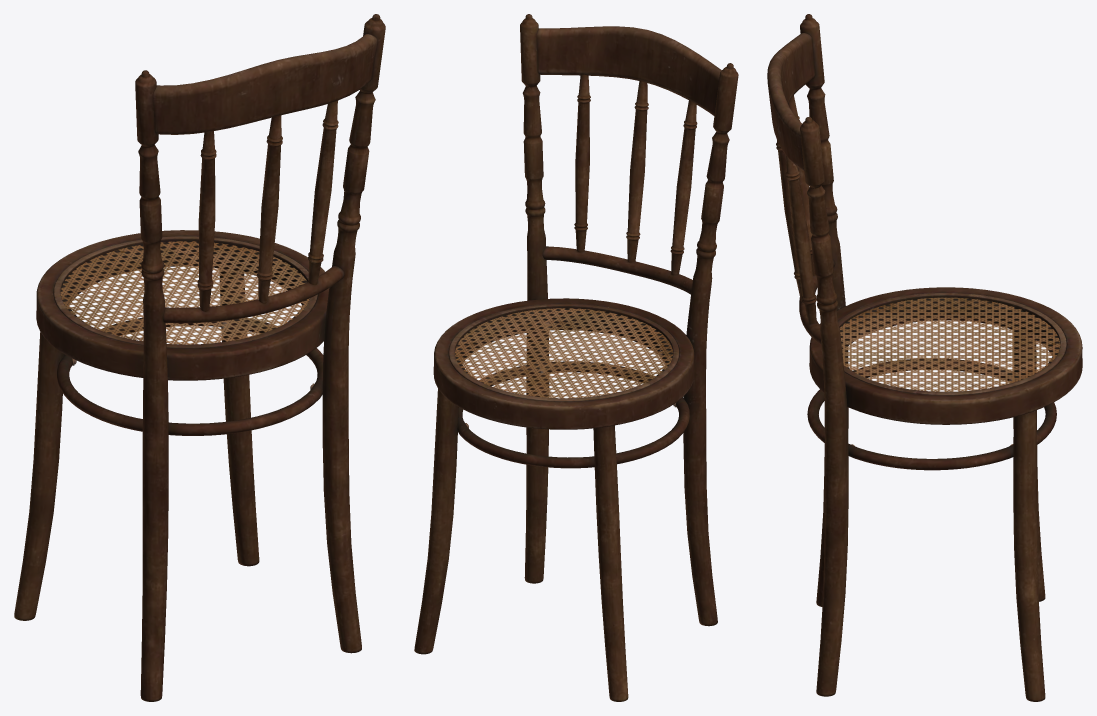
Rendered from chair-transformed.glb.
The picture shows the model from 3 angles, left to right: view 1: azimuth 30°, elevation 25°; view 2: azimuth 150°, elevation 25°; view 3: azimuth 270°, elevation 25°; orthographic projection. The views are drawn at different scales.
Parts seen in each view (by area): view 1: Nogi, Obod_sidenie, Setka, Spinka, Perekladini, Obruch, Fixator, Perekladina; view 2: Nogi, Obod_sidenie, Setka, Spinka, Perekladini, Obruch, Fixator, Perekladina; view 3: Nogi, Setka, Obod_sidenie, Obruch, Spinka, Perekladini, Fixator.
Part boxes in pixels (x1=…): Nogi: x1=14, y1=14, x2=385, y2=701; Obod_sidenie: x1=36, y1=230, x2=329, y2=380; Setka: x1=60, y1=241, x2=309, y2=344; Spinka: x1=153, y1=34, x2=377, y2=134; Perekladini: x1=197, y1=100, x2=338, y2=311; Obruch: x1=57, y1=317, x2=323, y2=435; Fixator: x1=53, y1=236, x2=317, y2=348; Perekladina: x1=163, y1=266, x2=344, y2=323; Nogi: x1=414, y1=14, x2=738, y2=701; Obod_sidenie: x1=433, y1=298, x2=694, y2=429; Setka: x1=455, y1=308, x2=673, y2=398; Spinka: x1=536, y1=26, x2=721, y2=115; Perekladini: x1=574, y1=74, x2=697, y2=275; Obruch: x1=457, y1=361, x2=689, y2=468; Fixator: x1=449, y1=303, x2=679, y2=401; Perekladina: x1=542, y1=246, x2=692, y2=294; Nogi: x1=800, y1=14, x2=1045, y2=701; Setka: x1=840, y1=297, x2=1060, y2=391; Obod_sidenie: x1=809, y1=287, x2=1082, y2=424; Obruch: x1=807, y1=358, x2=1056, y2=470; Spinka: x1=767, y1=33, x2=815, y2=170; Perekladini: x1=776, y1=95, x2=816, y2=324; Fixator: x1=838, y1=293, x2=1066, y2=395.
Bounding box in the file's own units: 0.4236 × 0.996 × 0.489.
1 material, 1 textured.
